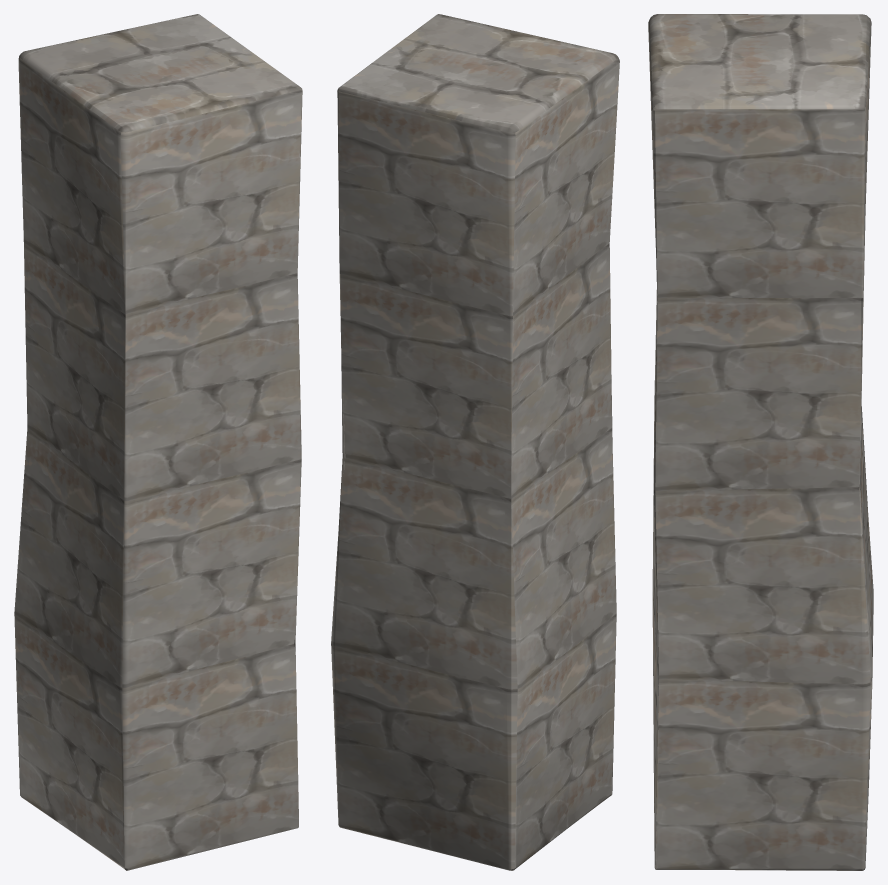
The picture shows the model from 3 angles, left to right: view 1: azimuth 30°, elevation 25°; view 2: azimuth 150°, elevation 25°; view 3: azimuth 270°, elevation 25°; orthographic projection. The views are drawn at different scales.
Visible parts, largest first — view 1: P3_A; view 2: P3_A; view 3: P3_A.
Part boxes in pixels (<box>): P3_A: <box>14,14,302,870</box>; P3_A: <box>331,14,619,870</box>; P3_A: <box>648,14,873,870</box>.
Size of the model in its own units: 0.8688 by 3.26 by 0.8649.
1 material, 1 textured.
